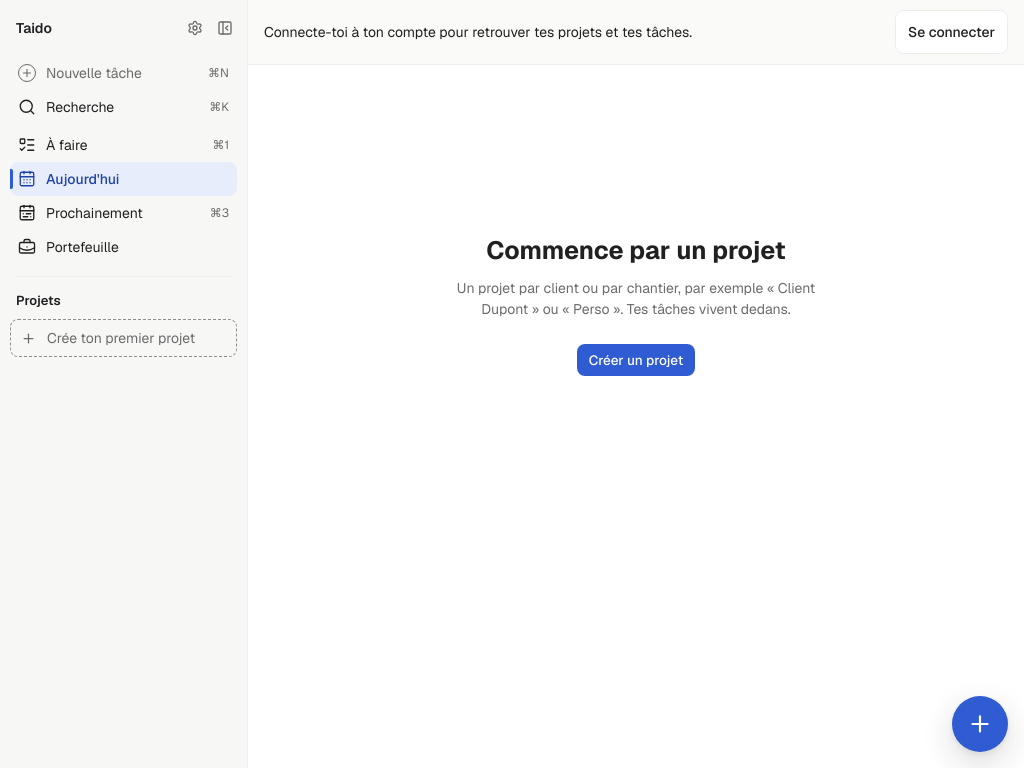
Test: MobileShell › the sidebar's own button folds it
The image size is (1024, 768).
Click the button named "Replier la barre latérale".
click(225, 28)  # box [211,14,239,42]
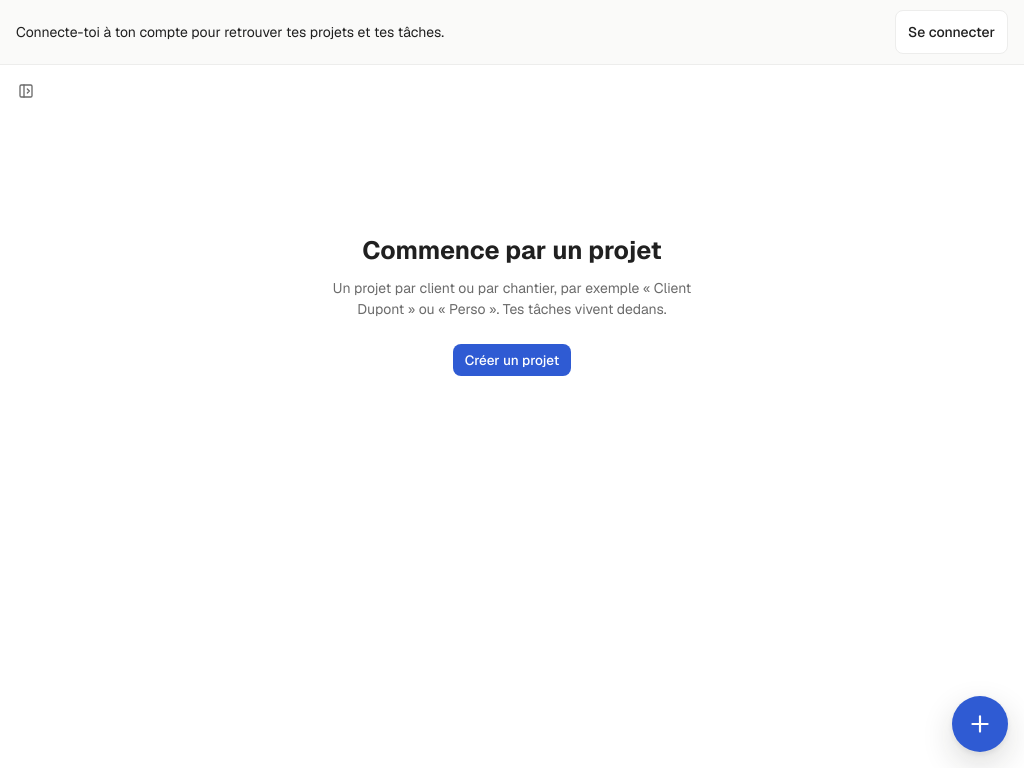
Expected: the navigation bar "Navigation" is gone
